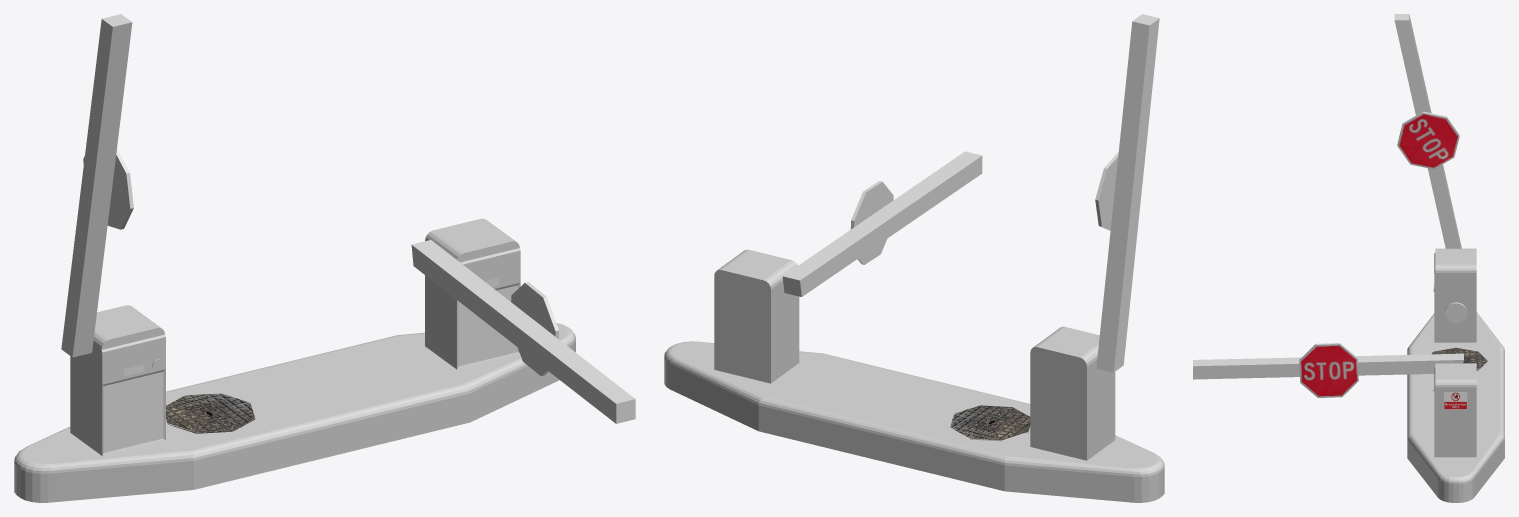
The model's file is Checkpoint.fbx.
3 renders of one model, left to right at view 1: azimuth 30°, elevation 25°; view 2: azimuth 150°, elevation 25°; view 3: azimuth 270°, elevation 25°, orthographic. The views are drawn at different scales.
Visible parts, largest first — view 1: Cube, Cube.001, Cube.002, Cylinder.001; view 2: Cube, Cube.001, Cube.002, Cylinder.001; view 3: Cube, Cube.002, Cube.001, Cylinder.001, Plane, Cylinder.
Part boxes in pixels (left/top/right/bottom): Cube: left=14, top=218, right=575, bottom=502; Cube.001: left=61, top=14, right=133, bottom=357; Cube.002: left=411, top=240, right=635, bottom=423; Cylinder.001: left=166, top=393, right=255, bottom=433; Cube: left=664, top=249, right=1164, bottom=502; Cube.001: left=1095, top=14, right=1159, bottom=372; Cube.002: left=782, top=151, right=982, bottom=296; Cylinder.001: left=950, top=405, right=1030, bottom=441; Cube: left=1407, top=248, right=1504, bottom=502; Cube.002: left=1193, top=343, right=1463, bottom=397; Cube.001: left=1394, top=14, right=1461, bottom=248; Cylinder.001: left=1431, top=347, right=1487, bottom=370; Plane: left=1444, top=392, right=1467, bottom=409; Cylinder: left=1445, top=302, right=1467, bottom=323.
Size of the model in its own units: 1332 by 1132 by 982.
9 materials, 3 textured.
